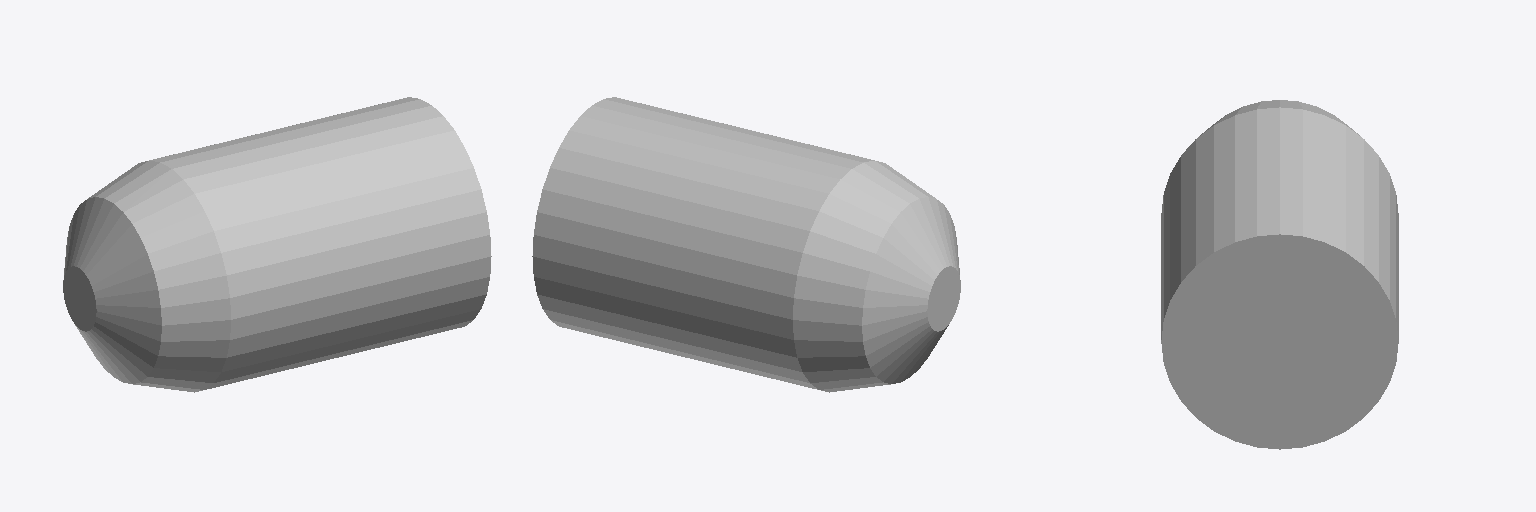
The model's file is ControlStickLeftThumbstick.obj.
3 views of the same model, side by side, from view 1: azimuth 30°, elevation 25°; view 2: azimuth 150°, elevation 25°; view 3: azimuth 270°, elevation 25° (orthographic).
Visible parts, largest first — view 1: Cylinder_Cylinder.001; view 2: Cylinder_Cylinder.001; view 3: Cylinder_Cylinder.001.
Part boxes in pixels (left/top/right/bottom): Cylinder_Cylinder.001: left=63, top=97, right=491, bottom=392; Cylinder_Cylinder.001: left=532, top=97, right=960, bottom=392; Cylinder_Cylinder.001: left=1161, top=100, right=1398, bottom=449.
Bounding box in the file's own units: 0.0403 × 0.0235 × 0.0235.